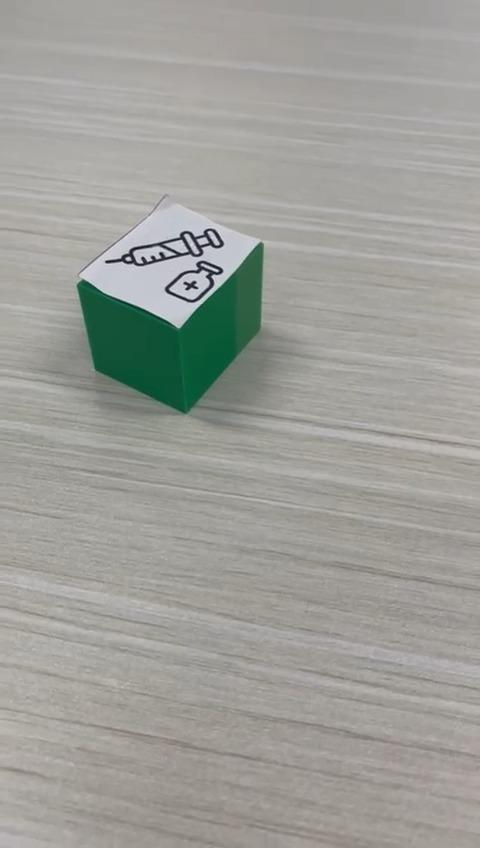antiseptic cream: (75, 192, 265, 414)
